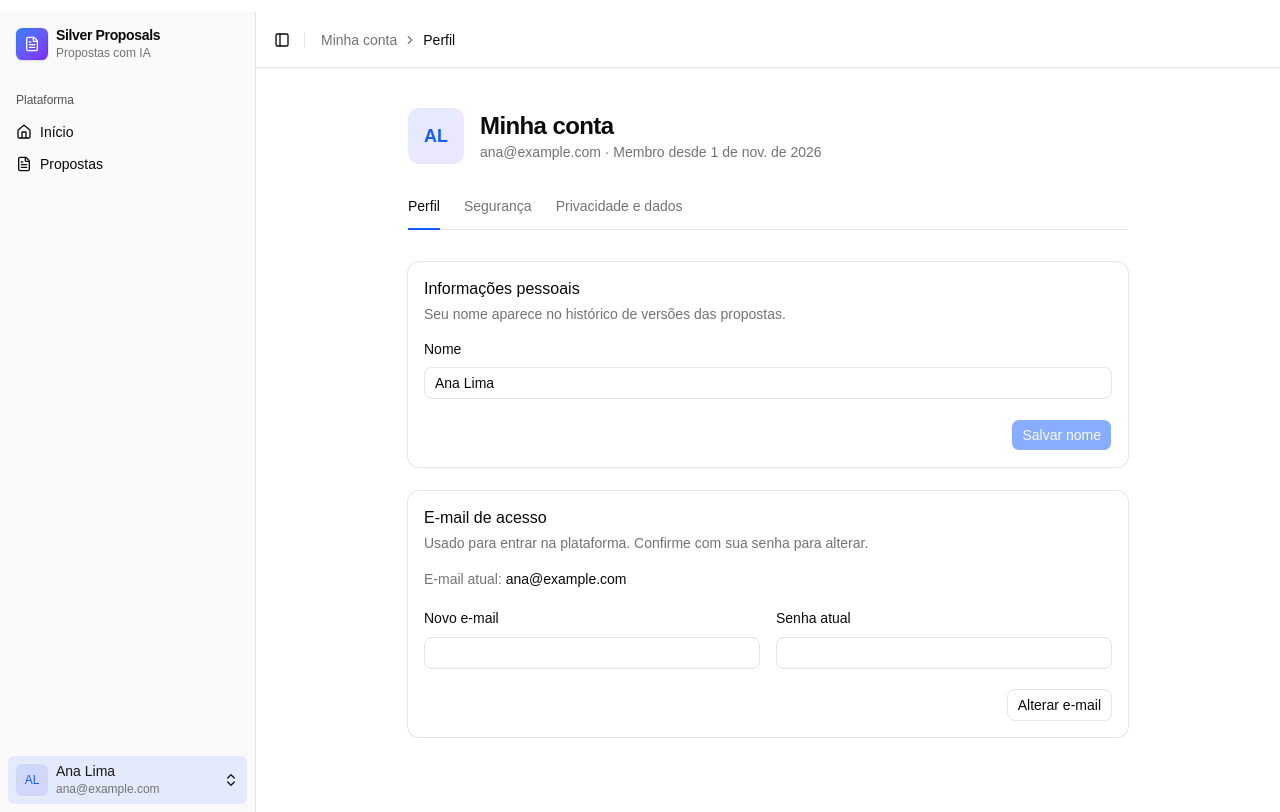
Test: ProfilePage › validates the new e-mail and requires the password
Type "invalido" into the field labelled "Novo e-mail".
click(592, 652); type("invalido")  # box [424,636,760,668]
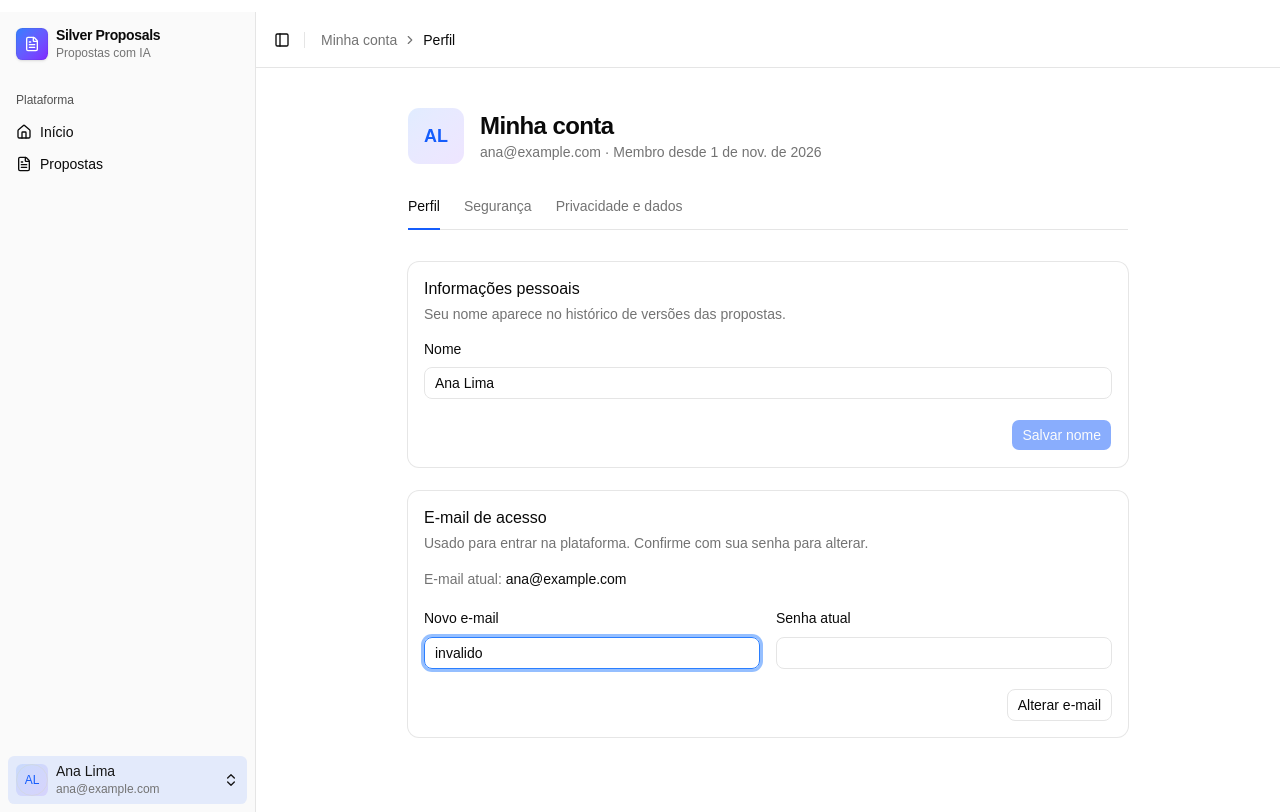
Click the button "Alterar e-mail".
click(1059, 704)  # box [1007,688,1112,720]
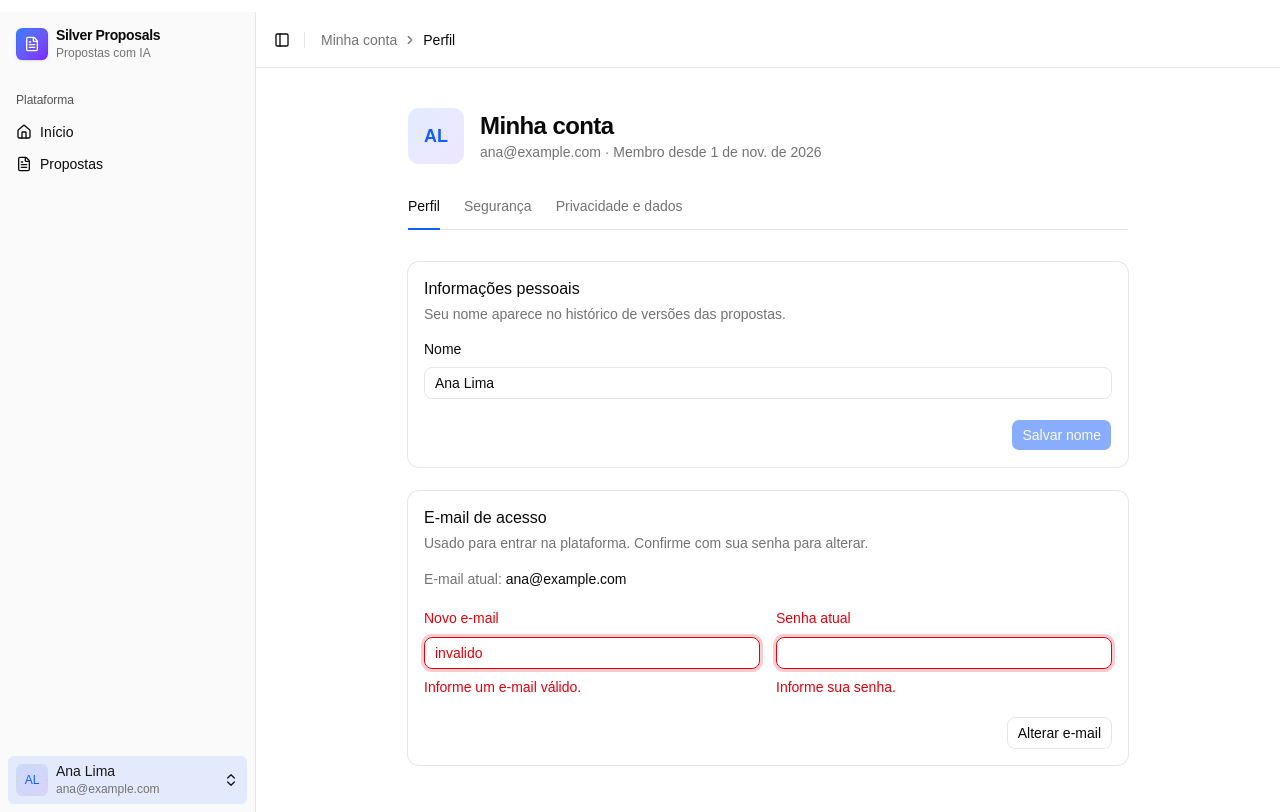
expect the text "Informe um e-mail válido." is shown: met, box [424,678,581,694]
expect the text "Informe sua senha." is shown: met, box [776,678,896,694]
